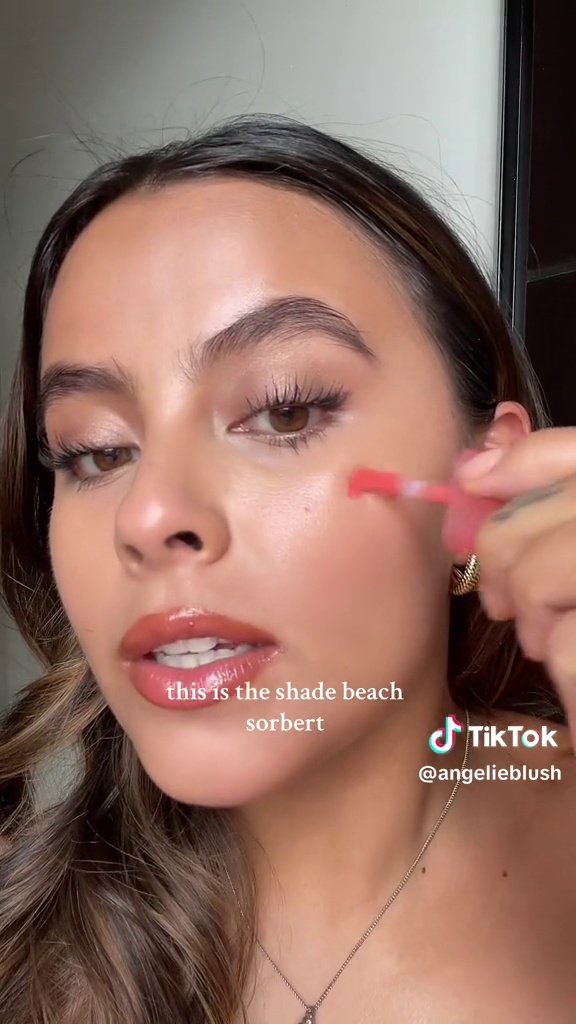train' :'yolo_data/train/images',: (323, 442, 538, 567)
